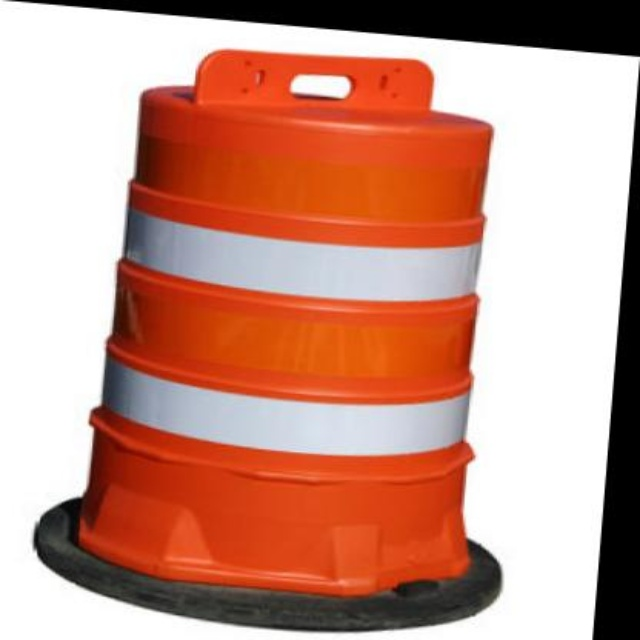obstacle: (59, 39, 510, 610)
